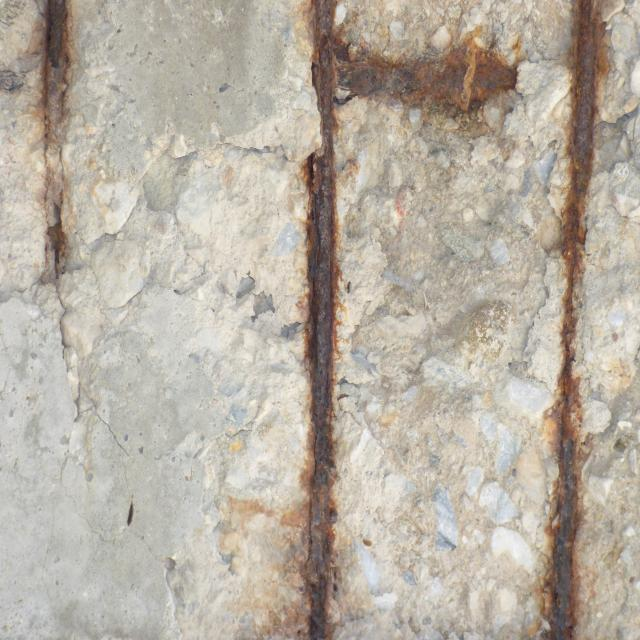corrosion: (216, 0, 640, 640), (25, 0, 86, 273)
